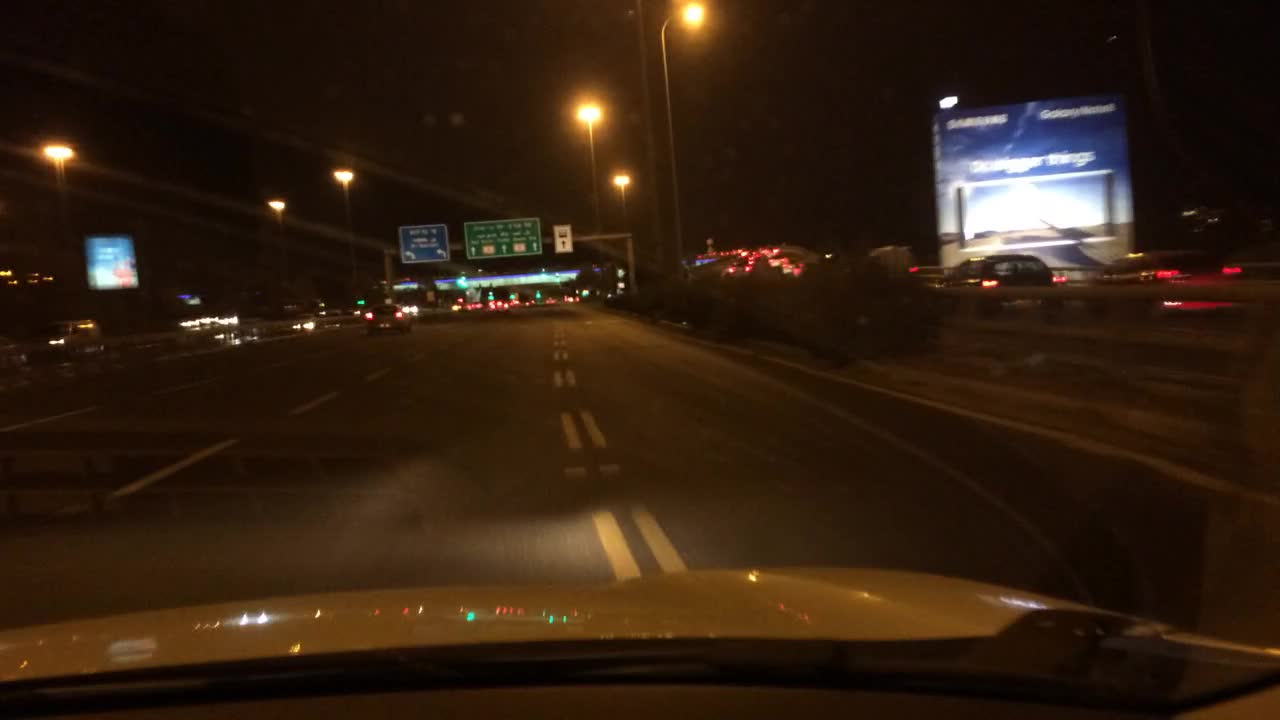car: (1086, 246, 1249, 324), (946, 253, 1055, 312), (0, 315, 105, 374), (361, 304, 409, 338), (908, 261, 954, 290), (292, 312, 327, 328), (403, 304, 423, 321), (487, 298, 509, 313), (566, 295, 583, 307)
traffic light: (455, 275, 464, 290), (352, 299, 368, 307), (488, 290, 497, 298), (537, 289, 541, 301)
traffic sign: (460, 218, 543, 261), (397, 226, 446, 264), (555, 223, 573, 255)
